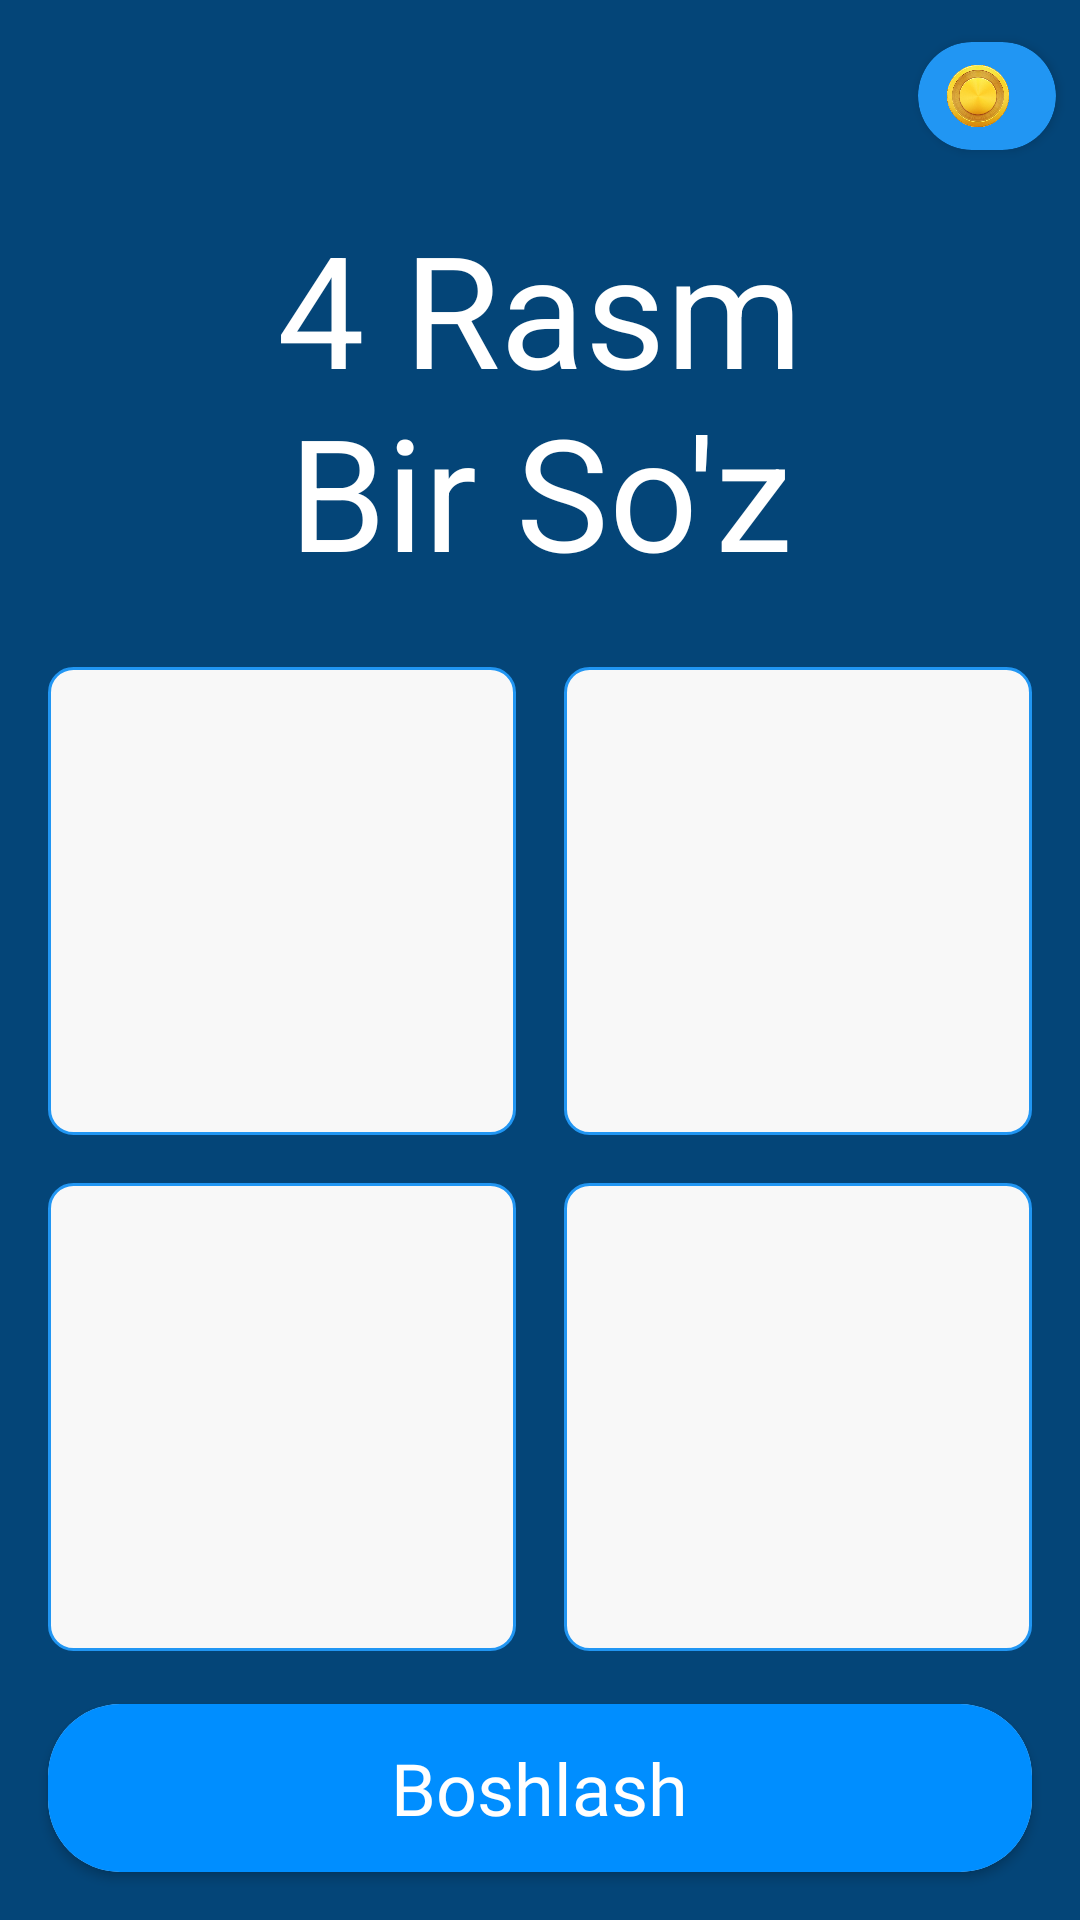

Icon click points for this 1080x1920 phone screenshot, format (x,y):
coin: (978,96)
